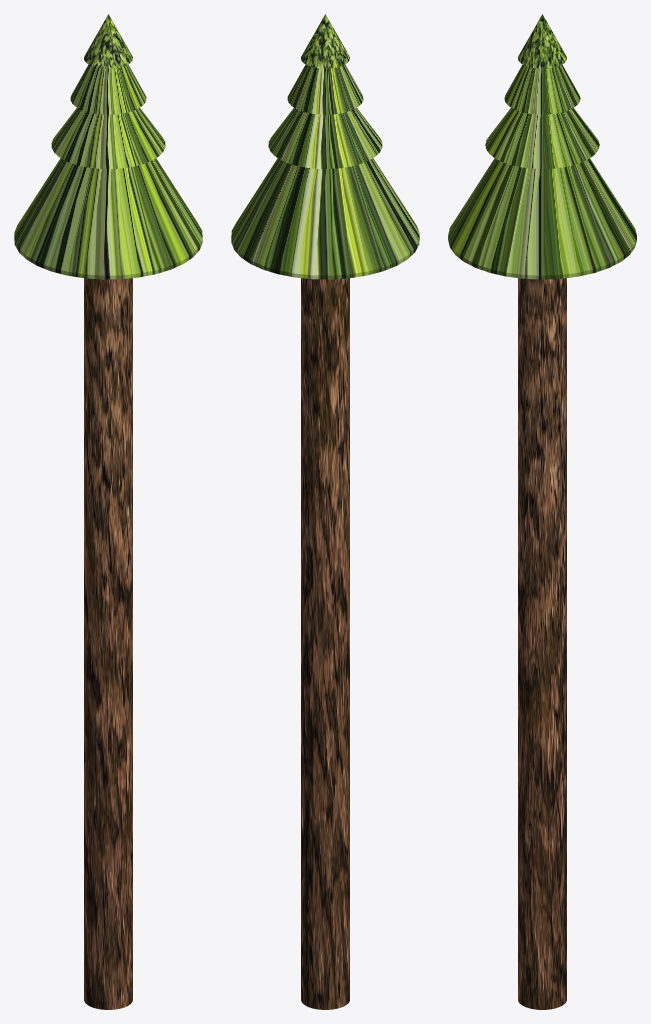
File: tree2.glb
The picture shows the model from 3 angles, left to right: view 1: azimuth 30°, elevation 25°; view 2: azimuth 150°, elevation 25°; view 3: azimuth 270°, elevation 25°; orthographic projection.
Parts seen in each view (by area): view 1: 실린더, 원뿔; view 2: 실린더, 원뿔; view 3: 실린더, 원뿔.
Part boxes in pixels (box(x1,y1,x2,y2)): 실린더: box(84, 278, 132, 1009); 원뿔: box(14, 14, 202, 279); 실린더: box(301, 278, 349, 1009); 원뿔: box(231, 14, 419, 279); 실린더: box(518, 278, 566, 1009); 원뿔: box(448, 14, 636, 279).
Size of the model in its own units: 7.69 by 44.26 by 7.69.
Materials: 2 (2 with a texture image).
